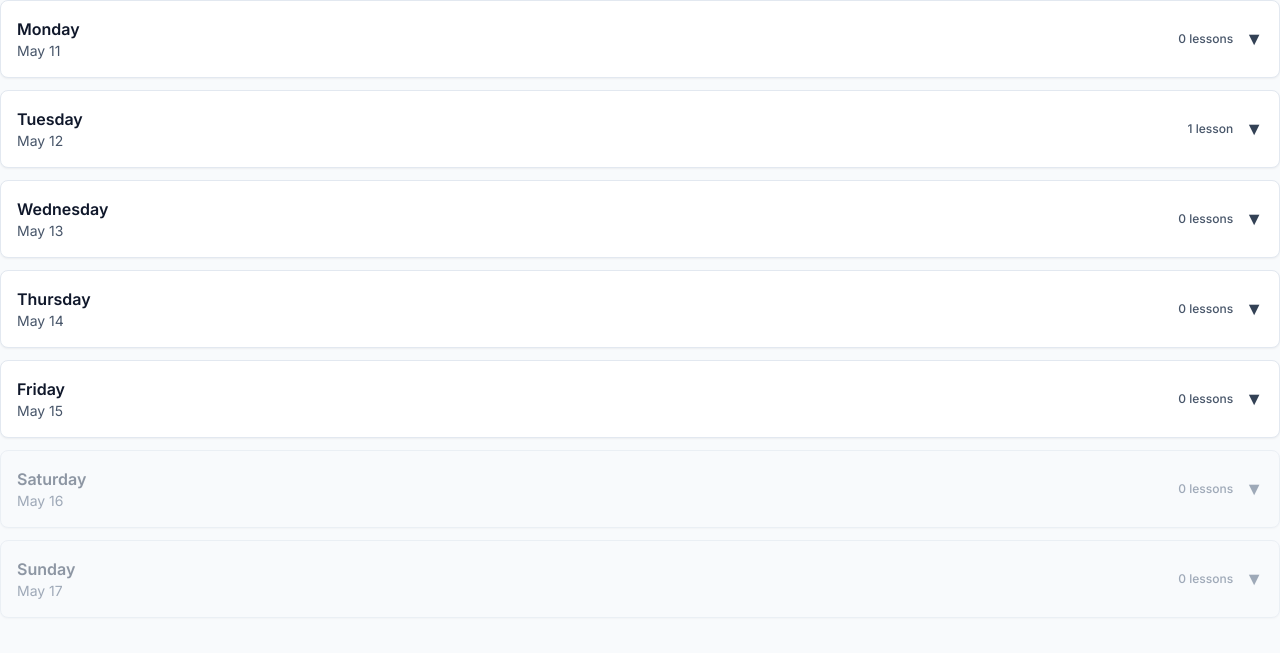
WeeklyList (mobile) › a lesson card can be opened from the keyboard (Enter)
Click the button "Tuesday May 12 1 lesson ▼" at (50,119), box [1,91,1279,167]
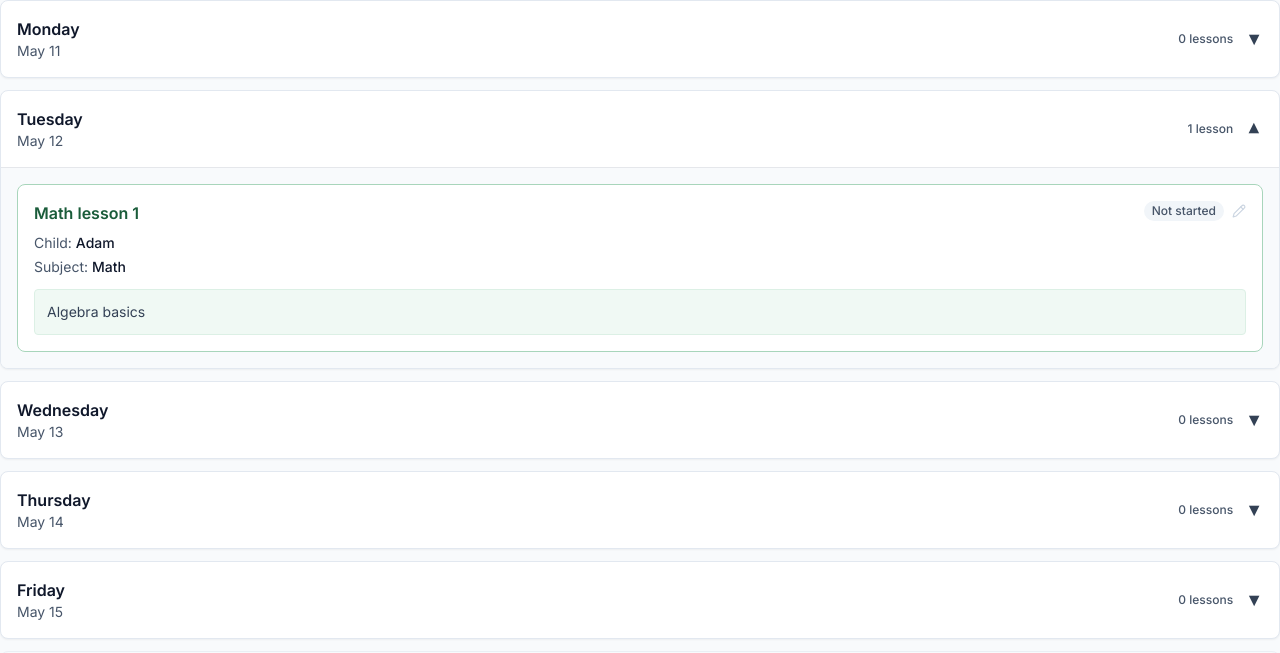
Press Enter in the button "Math lesson 1", box [17,184,1263,352]
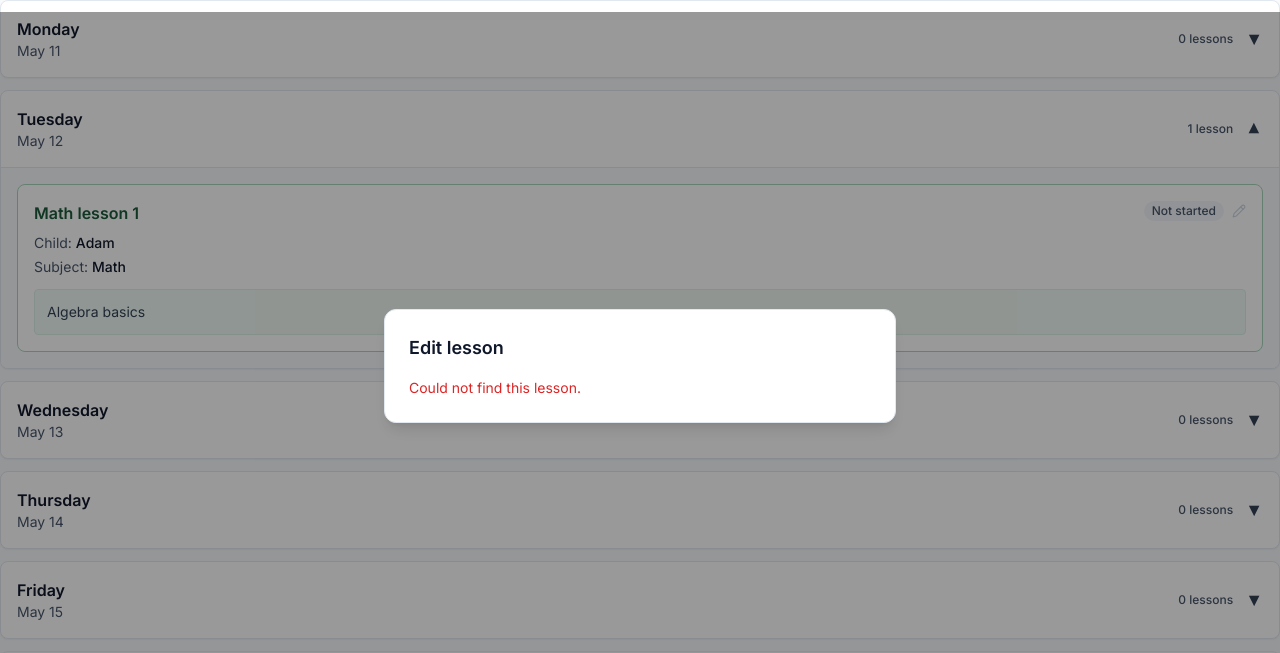
Expected: the dialog "Edit lesson" is shown, [384,309,896,423]
